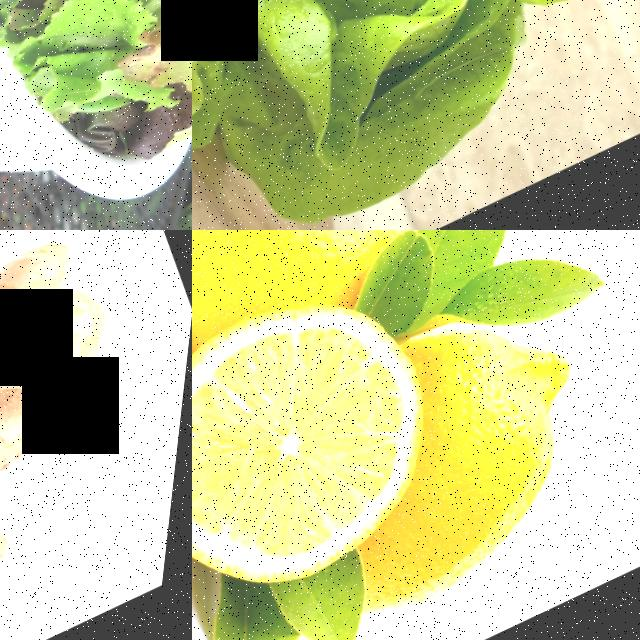ginger: (0, 230, 192, 640)
lemon: (192, 268, 468, 615), (394, 299, 640, 564)
lettuce: (192, 0, 640, 230), (0, 0, 192, 156)
peanuts: (192, 230, 421, 359)
